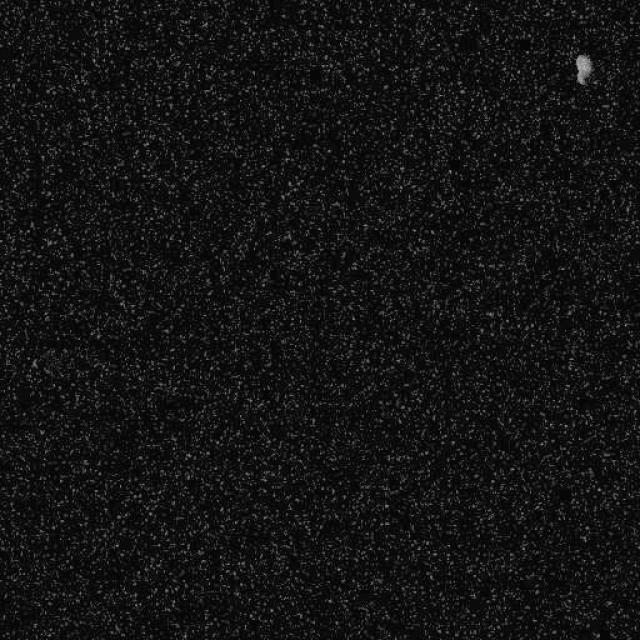D2: (574, 52, 594, 86)
